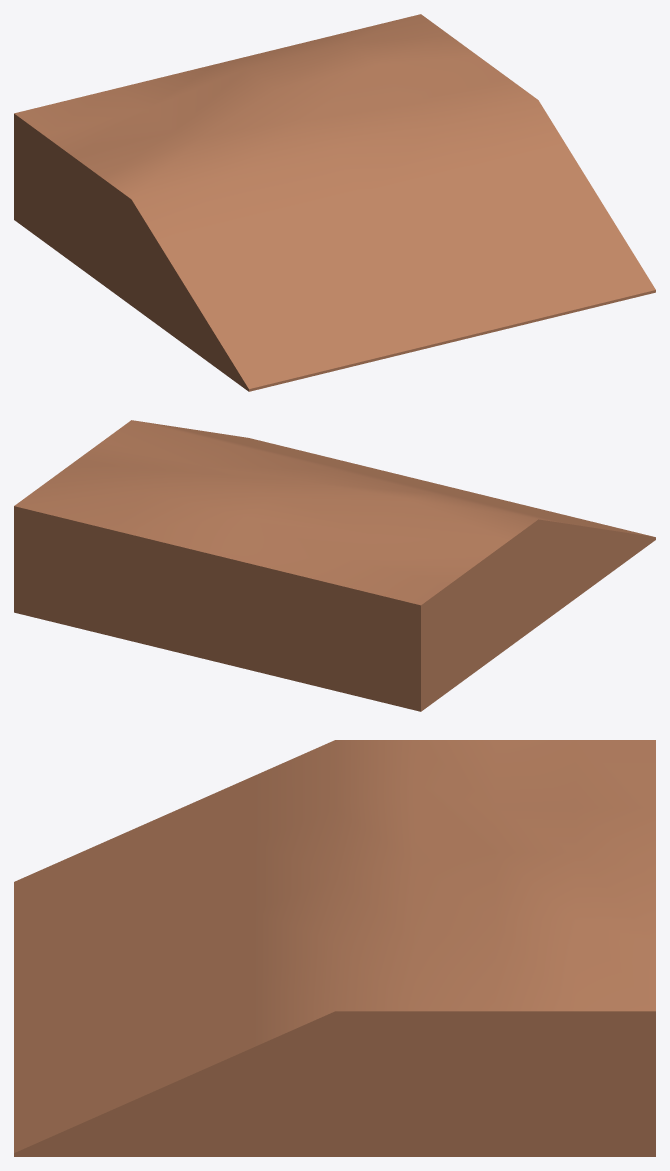
Rendered from uniformedTile-24_col.fbx.
The picture shows the model from 3 angles, top to bottom: view 1: azimuth 30°, elevation 25°; view 2: azimuth 150°, elevation 25°; view 3: azimuth 270°, elevation 25°; orthographic projection. The views are drawn at different scales.
Parts seen in each view (by area): view 1: uniformedTile-24.col; view 2: uniformedTile-24.col; view 3: uniformedTile-24.col.
Part boxes in pixels (box(x1,y1,x2,y2)): uniformedTile-24.col: box(14, 14, 655, 391); uniformedTile-24.col: box(14, 420, 655, 711); uniformedTile-24.col: box(14, 740, 655, 1156).
Bounding box in the file's own units: 2 × 0.5797 × 2.
1 material, 1 textured.
